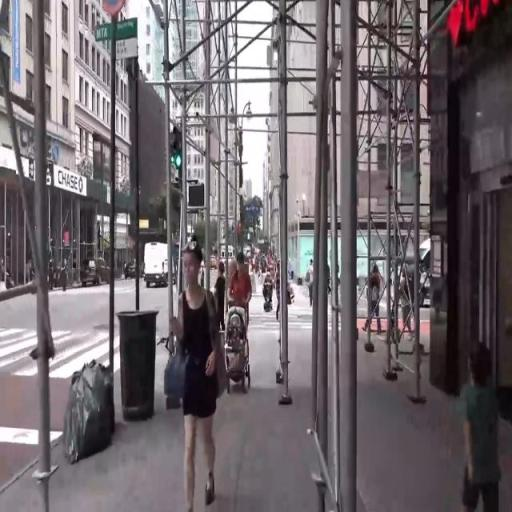person: (170, 238, 218, 512), (460, 337, 512, 512), (231, 251, 254, 363), (365, 260, 382, 339), (276, 259, 291, 324), (219, 260, 229, 333), (307, 256, 316, 305)
